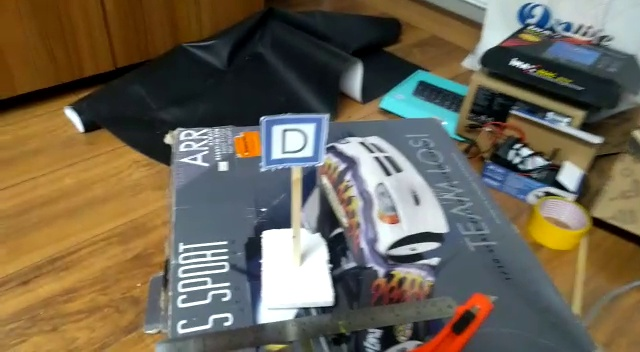durak: (264, 114, 329, 165)
